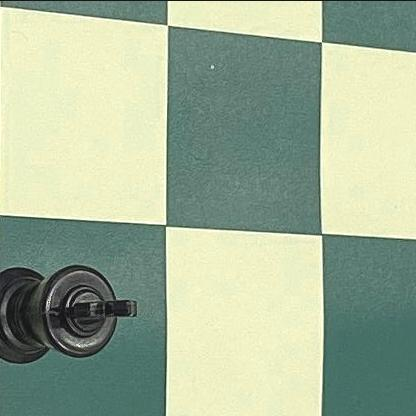black-king: (0, 247, 139, 396)
